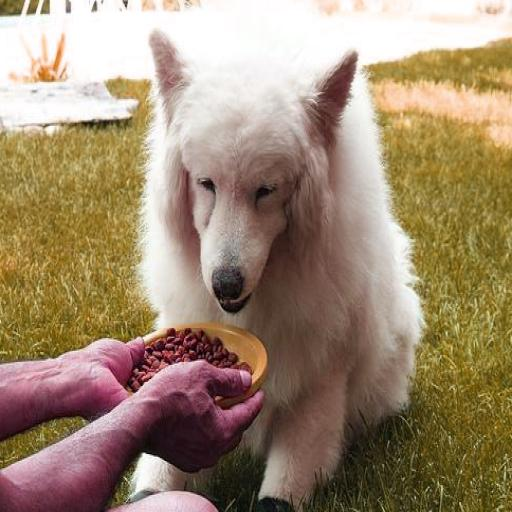dog_face: (150, 35, 356, 310)
